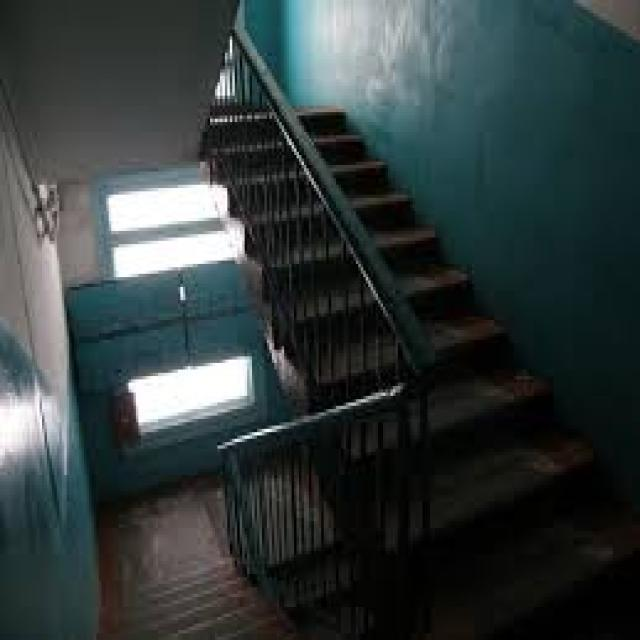stairs: (195, 0, 638, 637)
